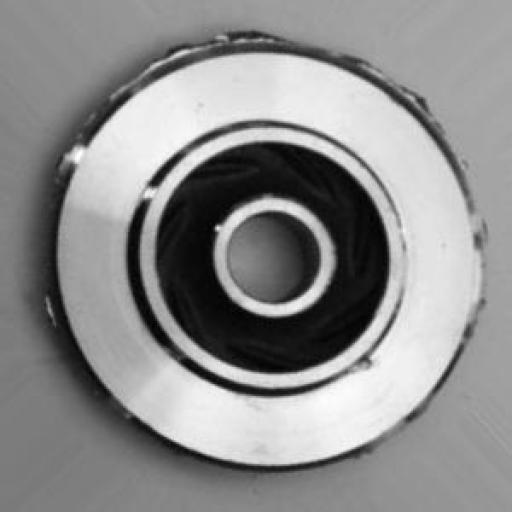defect: (40, 19, 492, 478)
